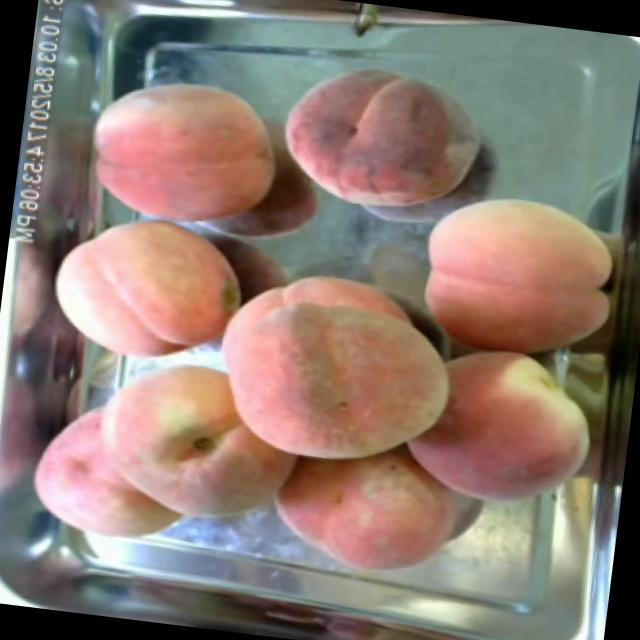Fruit: (5, 327, 317, 575), (191, 247, 473, 490), (398, 176, 630, 380), (261, 48, 498, 234), (386, 333, 610, 525), (32, 202, 258, 382), (72, 62, 292, 242), (257, 423, 478, 595)
